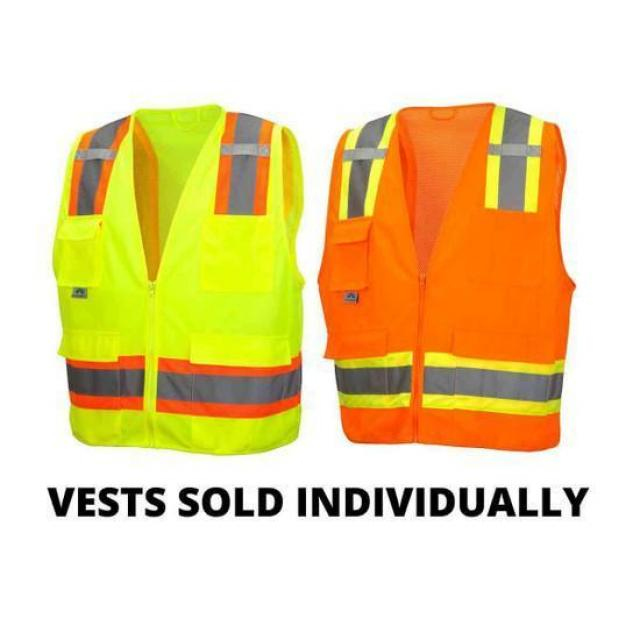vest: (316, 102, 575, 454), (52, 110, 308, 452)
